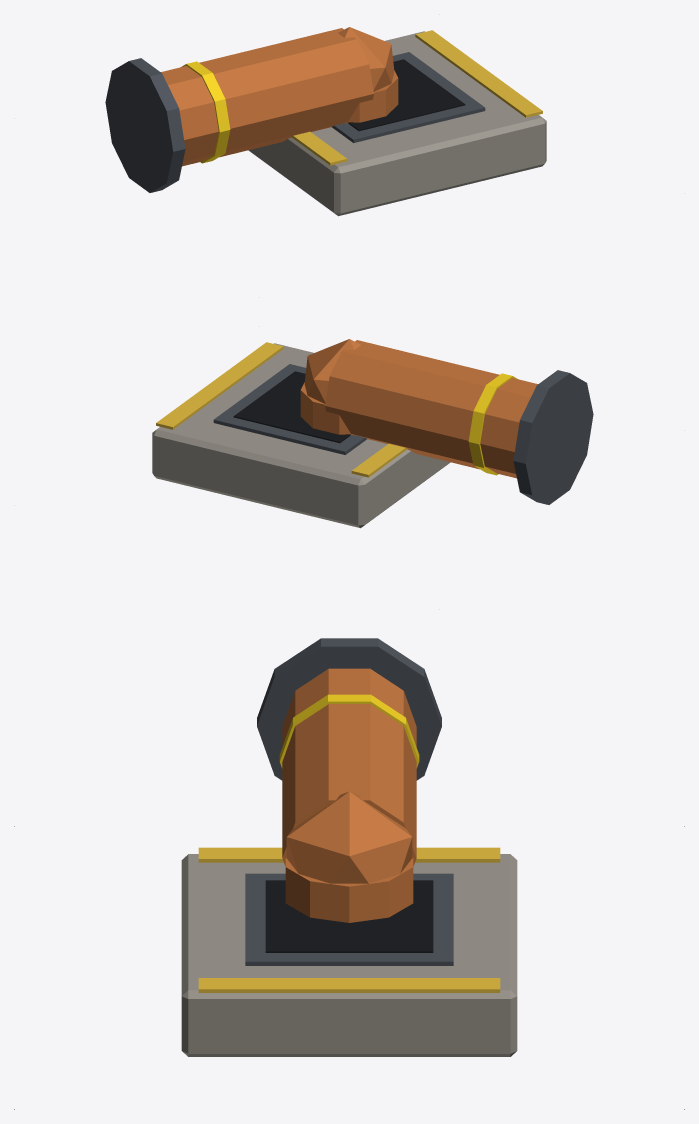
Rendered from tuyau_regard_t1.glb.
3 views of the same model, one above another, from view 1: azimuth 30°, elevation 25°; view 2: azimuth 150°, elevation 25°; view 3: azimuth 270°, elevation 25° (orthographic). The views are drawn at different scales.
Parts seen in each view (by area): view 1: pieces_cuivre.016, pieces_beton.044, pieces_acier_sombre.044, pieces_jaune.008, pieces_noir.008, pieces_rive_t1.014; view 2: pieces_cuivre.016, pieces_beton.044, pieces_acier_sombre.044, pieces_jaune.008, pieces_noir.008, pieces_rive_t1.014; view 3: pieces_beton.044, pieces_cuivre.016, pieces_acier_sombre.044, pieces_noir.008, pieces_jaune.008, pieces_rive_t1.014.
Boxes of the visible parts, bbox=[...] form: pieces_cuivre.016: bbox=[161, 27, 398, 166]; pieces_beton.044: bbox=[248, 31, 546, 216]; pieces_acier_sombre.044: bbox=[105, 52, 485, 192]; pieces_jaune.008: bbox=[291, 30, 542, 165]; pieces_noir.008: bbox=[348, 59, 465, 131]; pieces_rive_t1.014: bbox=[181, 61, 230, 163]; pieces_cuivre.016: bbox=[300, 339, 537, 478]; pieces_beton.044: bbox=[152, 343, 450, 528]; pieces_acier_sombre.044: bbox=[213, 364, 593, 504]; pieces_jaune.008: bbox=[156, 342, 407, 477]; pieces_noir.008: bbox=[233, 371, 350, 443]; pieces_rive_t1.014: bbox=[468, 373, 517, 475]; pieces_beton.044: bbox=[181, 854, 517, 1056]; pieces_cuivre.016: bbox=[282, 668, 416, 922]; pieces_acier_sombre.044: bbox=[245, 638, 453, 965]; pieces_noir.008: bbox=[265, 880, 433, 952]; pieces_jaune.008: bbox=[198, 847, 500, 992]; pieces_rive_t1.014: bbox=[279, 694, 419, 768].
Bounding box in the file's own units: 1 × 0.3112 × 1.
